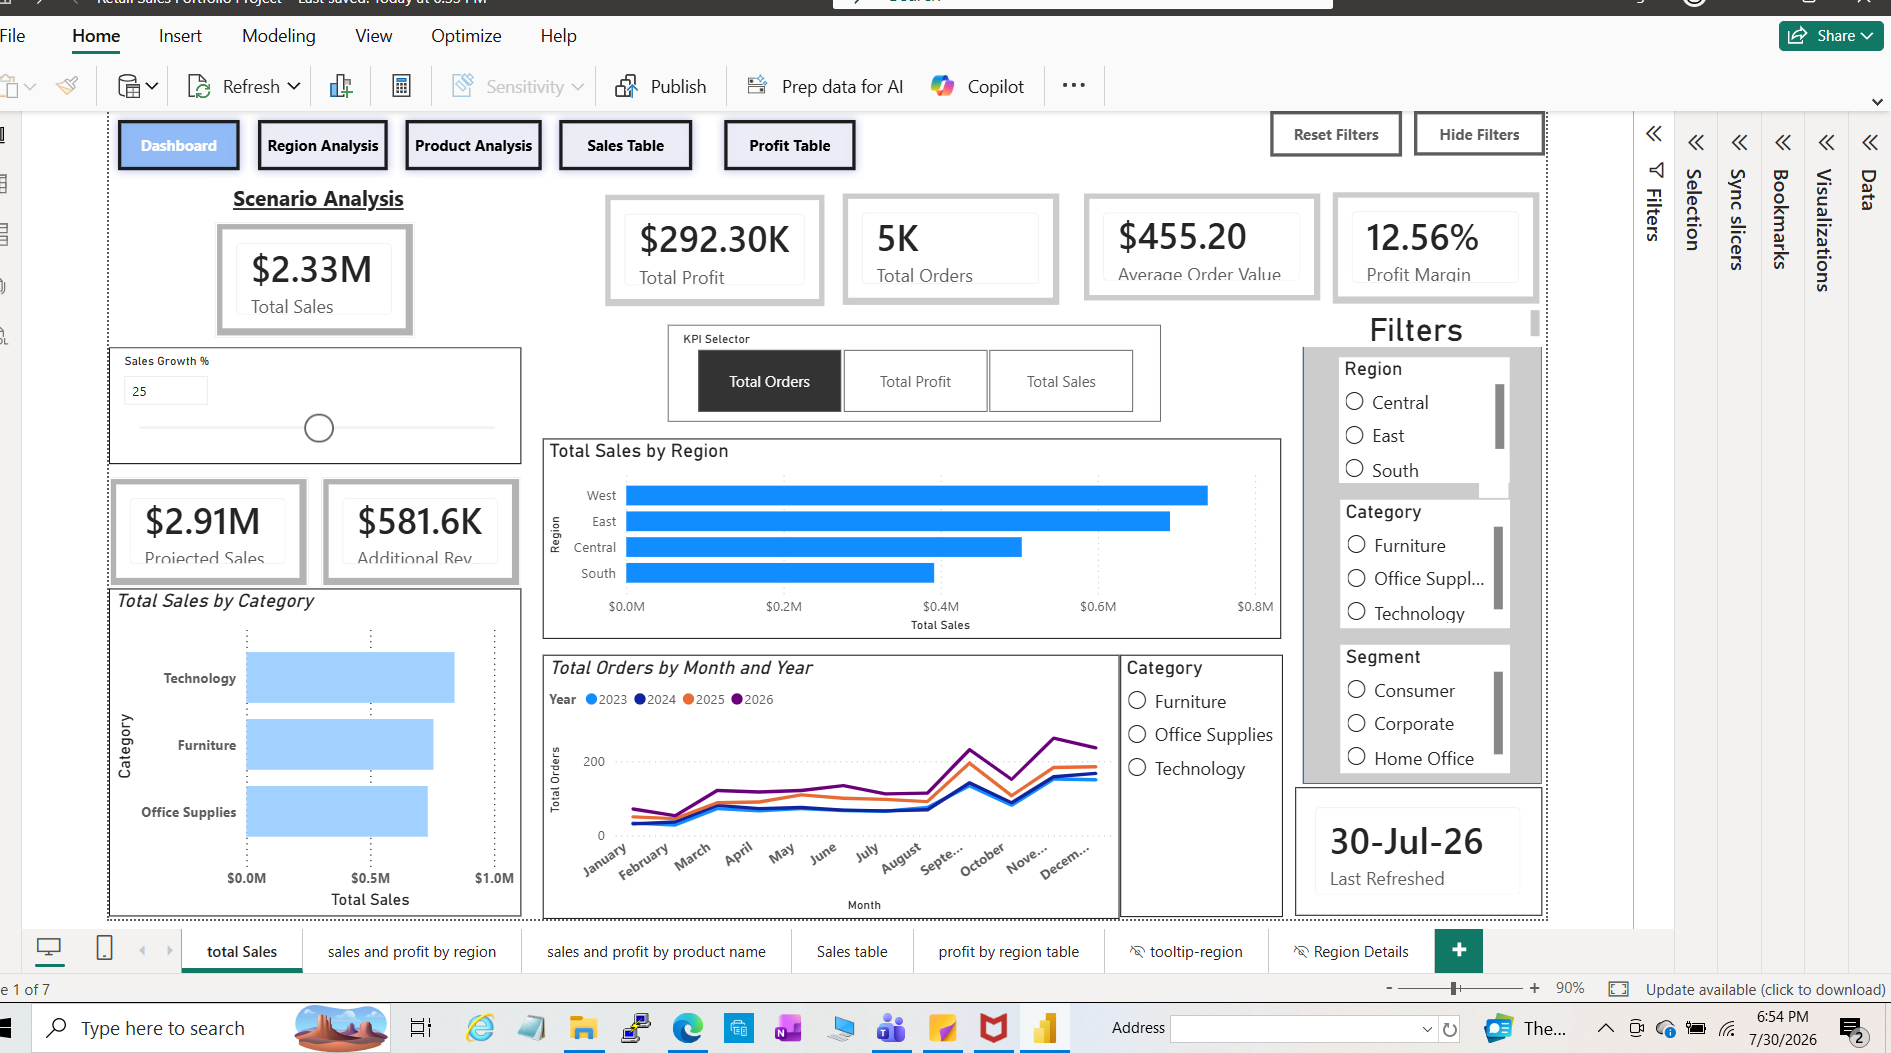

What the dashboard file says about the page in this screenshot:
{"tool":"powerbi","page":{"name":"total Sales","canvas":[1280,720],"ordinal":0},"visuals":[{"type":"cardVisual","fields":{"Data":["Orders.Total Sales"]},"box":[95.1,98.9,177.3,102.8],"z":0},{"type":"shape","box":[1062.8,205.9,213.1,394.6],"z":0,"group":"g2"},{"type":"lineChart","fields":{"Y":["Orders.Total Sales"],"Category":["Orders.Order Date.Variation.Date Hierarchy.Month"],"Series":["Orders.Order Date.Variation.Date Hierarchy.Year"]},"box":[375.6,297.9,513.9,235],"z":0,"group":"g1"},{"type":"cardVisual","fields":{"Data":["Orders.Total Profit"]},"box":[441.9,74.5,195.3,98.9],"z":1000},{"type":"listSlicer","fields":{"Values":["Orders.Region"]},"box":[1095.5,219.5,152.2,112.4],"z":1000,"group":"g2"},{"type":"listSlicer","fields":{"Values":["Orders.Category"]},"box":[889.5,297.8,145.2,233.8],"z":1000,"group":"g1"},{"type":"cardVisual","fields":{"Data":["Orders.Total Orders"]},"box":[653.9,73.2,192.7,98.9],"z":2000},{"type":"listSlicer","fields":{"Values":["Orders.Category"]},"box":[1096.7,347,151,114.3],"z":2000,"group":"g2"},{"type":"cardVisual","fields":{"Data":["Orders.Average Order Value"]},"box":[868.4,73.2,210.7,95.1],"z":3000},{"type":"listSlicer","fields":{"Values":["Orders.Segment"]},"box":[1096.7,475.4,151,114.3],"z":3000,"group":"g2"},{"type":"cardVisual","fields":{"Data":["Orders.Profit Margin"]},"box":[1089.4,71.9,183.7,98.9],"z":4000},{"type":"textbox","box":[1056.6,173.1,222.8,37.5],"z":4000,"group":"g2"},{"type":"clusteredBarChart","fields":{"Category":["Orders.Category"],"Y":["Orders.Total Sales"]},"box":[0,425.2,367.4,291.6],"z":5000},{"type":"clusteredBarChart","fields":{"Category":["Orders.Region"],"Y":["Orders.Total Sales"]},"box":[376.7,541.1,657.8,178.9],"z":6000},{"type":"group","id":"g1","title":"Group 1","box":[375.6,297.8,658.9,234.4],"z":7000},{"type":"group","id":"g2","title":"Filter Pane","box":[1056.6,173.1,222.8,427.5],"z":8000},{"type":"actionButton","box":[1161.8,0,116.7,39.7],"z":10000},{"type":"actionButton","box":[0,0,124.4,60.7],"z":11000},{"type":"actionButton","box":[124.4,0,131.6,60.7],"z":12000},{"type":"actionButton","box":[255.9,0,137.4,60.7],"z":13000},{"type":"actionButton","box":[393.3,0,134.5,60.7],"z":14000},{"type":"actionButton","box":[539.4,0,133,60.7],"z":15000},{"type":"slicer","fields":{"Values":["KPI Selector.KPI Selector"]},"box":[497.2,190.1,439.3,86.1],"z":16000},{"type":"slicer","fields":{"Values":["Sales Growth %.Sales Growth %"]},"box":[0,210.7,367.3,103.9],"z":17000},{"type":"cardVisual","fields":{"Data":["KPI Selector.Additional Revenue"]},"box":[189.7,326.6,177.6,97.8],"z":19000},{"type":"textbox","box":[89.9,60.4,188.8,38.5],"z":20000},{"type":"cardVisual","fields":{"Data":["KPI Selector.Last Refreshed"]},"box":[1056.6,602.1,219.8,114.4],"z":20001},{"type":"actionButton","box":[1034.1,0,117.4,40.6],"z":20002},{"type":"cardVisual","fields":{"Data":["KPI Selector.Projected Sales"]},"box":[0,326.6,177.6,97.8],"z":20003}]}

Visuals, with their boxes on the page's 1280x720 design canvas (x1, y1, x2, y2). These are canvas units, not pixel positions in the 1891x1053 screenshot, which may show the page scaled, cropped or inside an application window:
cardVisual - Orders.Total Sales: [x1=95, y1=99, x2=272, y2=202]
shape: [x1=1063, y1=206, x2=1276, y2=600]
lineChart - Orders.Total Sales x Orders.Order Date.Variation.Date Hierarchy.Month: [x1=376, y1=298, x2=890, y2=533]
cardVisual - Orders.Total Profit: [x1=442, y1=74, x2=637, y2=173]
listSlicer - Orders.Region: [x1=1096, y1=220, x2=1248, y2=332]
listSlicer - Orders.Category: [x1=890, y1=298, x2=1035, y2=532]
cardVisual - Orders.Total Orders: [x1=654, y1=73, x2=847, y2=172]
listSlicer - Orders.Category: [x1=1097, y1=347, x2=1248, y2=461]
cardVisual - Orders.Average Order Value: [x1=868, y1=73, x2=1079, y2=168]
listSlicer - Orders.Segment: [x1=1097, y1=475, x2=1248, y2=590]
cardVisual - Orders.Profit Margin: [x1=1089, y1=72, x2=1273, y2=171]
textbox: [x1=1057, y1=173, x2=1279, y2=211]
clusteredBarChart - Orders.Category x Orders.Total Sales: [x1=0, y1=425, x2=367, y2=717]
clusteredBarChart - Orders.Region x Orders.Total Sales: [x1=377, y1=541, x2=1034, y2=720]
"Group 1" group: [x1=376, y1=298, x2=1034, y2=532]
"Filter Pane" group: [x1=1057, y1=173, x2=1279, y2=601]
actionButton: [x1=1162, y1=0, x2=1278, y2=40]
actionButton: [x1=0, y1=0, x2=124, y2=61]
actionButton: [x1=124, y1=0, x2=256, y2=61]
actionButton: [x1=256, y1=0, x2=393, y2=61]
actionButton: [x1=393, y1=0, x2=528, y2=61]
actionButton: [x1=539, y1=0, x2=672, y2=61]
slicer - KPI Selector.KPI Selector: [x1=497, y1=190, x2=936, y2=276]
slicer - Sales Growth %.Sales Growth %: [x1=0, y1=211, x2=367, y2=315]
cardVisual - KPI Selector.Additional Revenue: [x1=190, y1=327, x2=367, y2=424]
textbox: [x1=90, y1=60, x2=279, y2=99]
cardVisual - KPI Selector.Last Refreshed: [x1=1057, y1=602, x2=1276, y2=716]
actionButton: [x1=1034, y1=0, x2=1152, y2=41]
cardVisual - KPI Selector.Projected Sales: [x1=0, y1=327, x2=178, y2=424]
